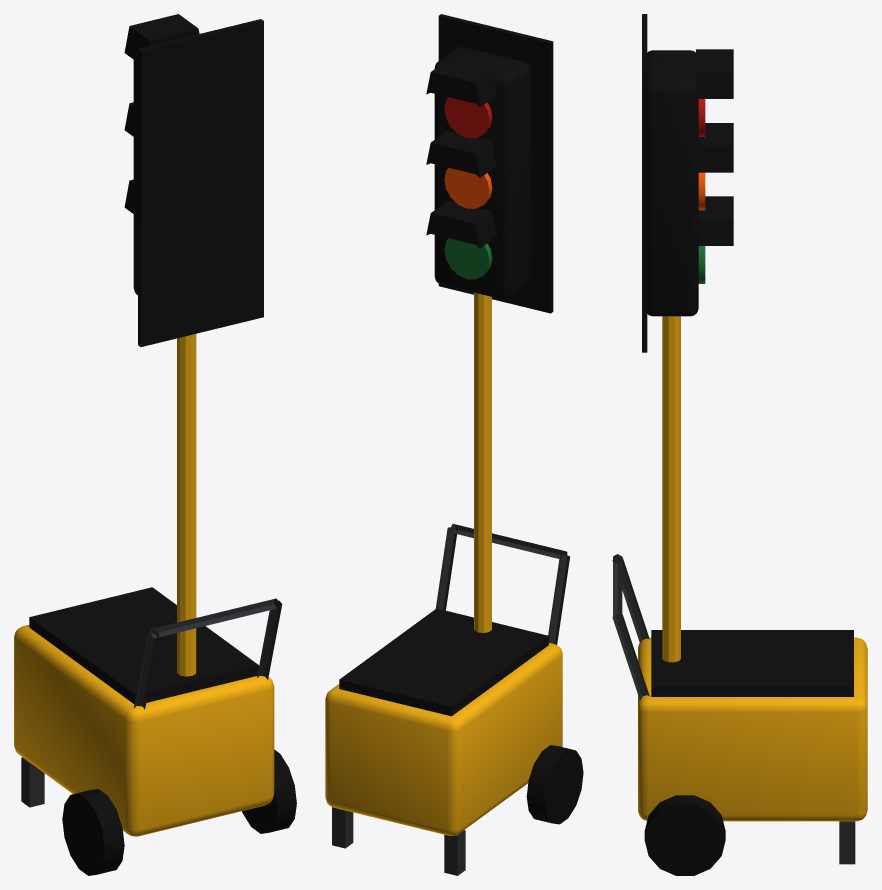
The model's file is plant.traffic.signal.glb.
The picture shows the model from 3 angles, left to right: view 1: azimuth 30°, elevation 25°; view 2: azimuth 150°, elevation 25°; view 3: azimuth 270°, elevation 25°; orthographic projection. The views are drawn at different scales.
Visible parts, largest first — view 1: main__plastic_black, main__plant_yellow, main__rubber, main__steel_dark; view 2: main__plastic_black, main__plant_yellow, main__steel_dark, main__rubber, main__plastic_green, main__plastic_red, main__hivis_orange; view 3: main__plant_yellow, main__plastic_black, main__rubber, main__steel_dark.
Part boxes in pixels (<box>): main__plastic_black: <box>29,14,263,704</box>; main__plant_yellow: <box>14,334,274,836</box>; main__rubber: <box>62,749,296,875</box>; main__steel_dark: <box>21,598,282,807</box>; main__plastic_black: <box>339,14,553,716</box>; main__plant_yellow: <box>325,292,562,835</box>; main__steel_dark: <box>332,524,570,875</box>; main__rubber: <box>526,745,583,824</box>; main__plastic_green: <box>444,238,492,279</box>; main__plastic_red: <box>444,97,492,138</box>; main__hivis_orange: <box>444,168,492,208</box>; main__plant_yellow: <box>638,316,867,821</box>; main__plastic_black: <box>642,14,853,696</box>; main__rubber: <box>644,795,725,875</box>; main__steel_dark: <box>612,554,855,864</box>.
Bounding box in the file's own units: 0.78 × 3.23 × 0.9442.
